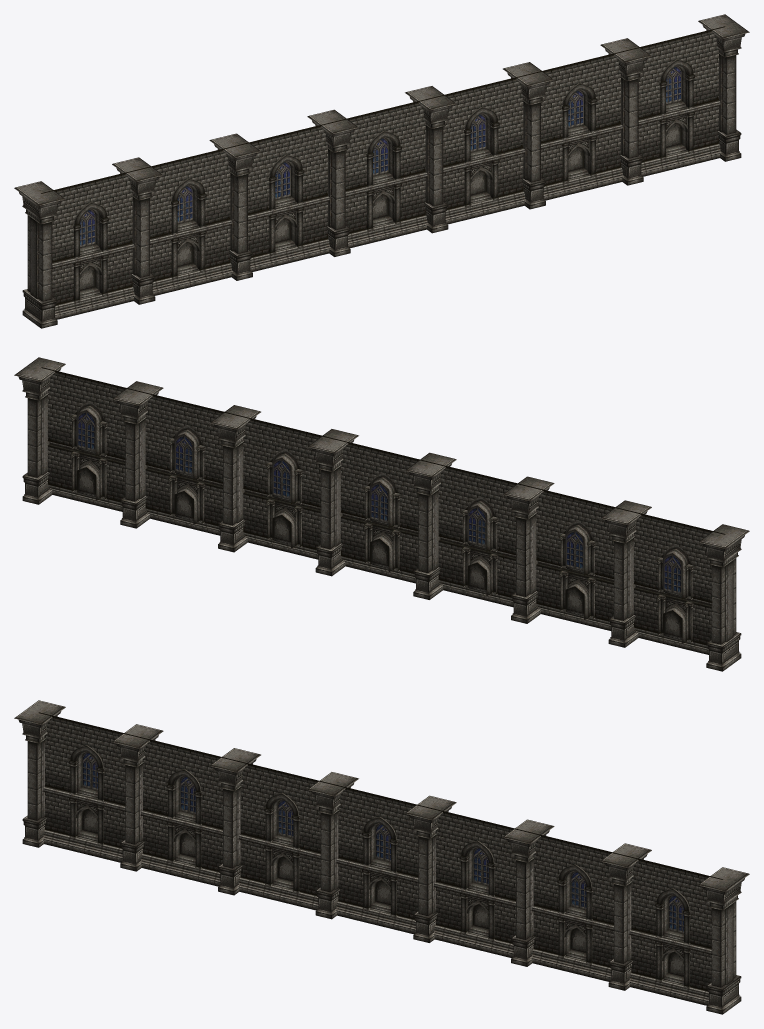
File: EnvBdgMD_Courthouse_A_Indoor_Wall_2F_A.FBX
3 renders of one model, top to bottom at view 1: azimuth 30°, elevation 25°; view 2: azimuth 150°, elevation 25°; view 3: azimuth 330°, elevation 25°, orthographic.
Parts seen in each view (by area): view 1: EnvBdgMD_Courthouse_A_Indoor_Wall_2F_A; view 2: EnvBdgMD_Courthouse_A_Indoor_Wall_2F_A; view 3: EnvBdgMD_Courthouse_A_Indoor_Wall_2F_A.
Part boxes in pixels (box(x1,y1,x2,y2)): EnvBdgMD_Courthouse_A_Indoor_Wall_2F_A: box(14, 14, 749, 328); EnvBdgMD_Courthouse_A_Indoor_Wall_2F_A: box(14, 357, 749, 671); EnvBdgMD_Courthouse_A_Indoor_Wall_2F_A: box(14, 700, 749, 1014).
Bounding box in the file's own units: 4370 × 750 × 260.
